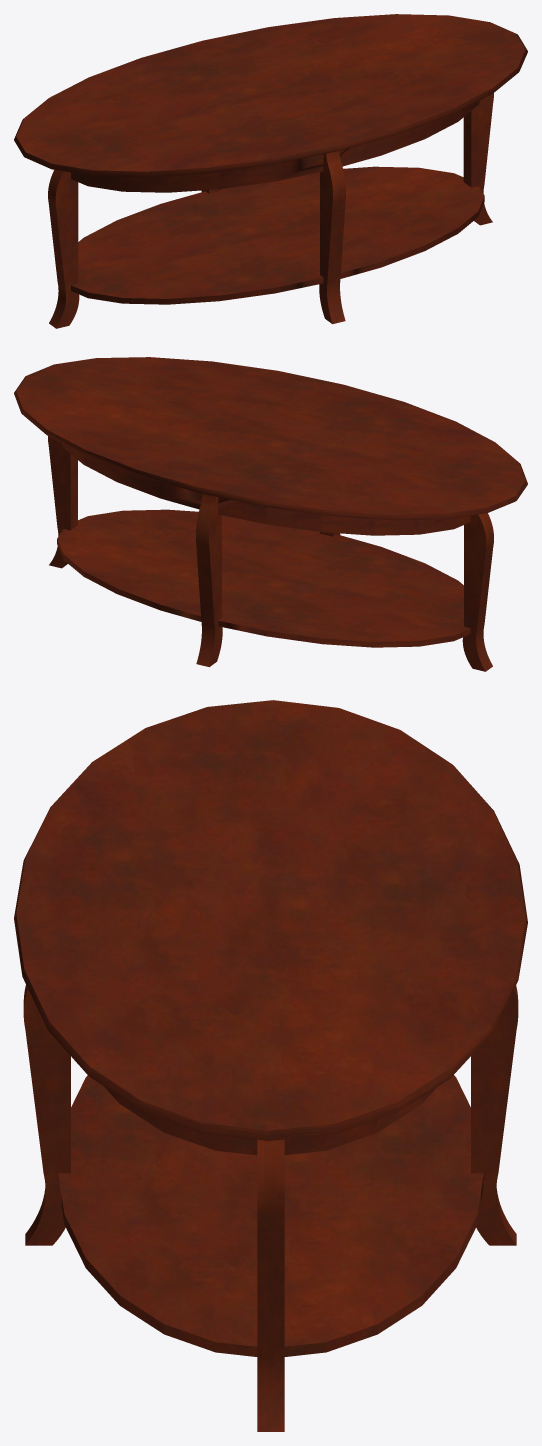
File: coffee-table.dae
The picture shows the model from 3 angles, top to bottom: view 1: azimuth 30°, elevation 25°; view 2: azimuth 150°, elevation 25°; view 3: azimuth 270°, elevation 25°; orthographic projection. The views are drawn at different scales.
Parts seen in each view (by area): view 1: Table-Side1, Group3, Group1, Group4; view 2: Table-Side1, Group2, Group3, Group4; view 3: Table-Side1, Group4, Group1, Group2.
Boxes of the visible parts, left/top/right/bottom form: Table-Side1: left=14, top=14, right=527, bottom=304; Group3: left=48, top=170, right=79, bottom=328; Group1: left=319, top=151, right=345, bottom=324; Group4: left=463, top=93, right=493, bottom=225; Table-Side1: left=14, top=357, right=527, bottom=647; Group2: left=196, top=494, right=222, bottom=667; Group3: left=462, top=513, right=493, bottom=671; Group4: left=48, top=436, right=77, bottom=568; Table-Side1: left=14, top=700, right=527, bottom=1356; Group4: left=257, top=1139, right=284, bottom=1431; Group1: left=23, top=985, right=70, bottom=1245; Group2: left=471, top=985, right=518, bottom=1245.
Bounding box in the file's own units: 56.5 × 28.25 × 19.67.
Materials: 1 (1 with a texture image).
